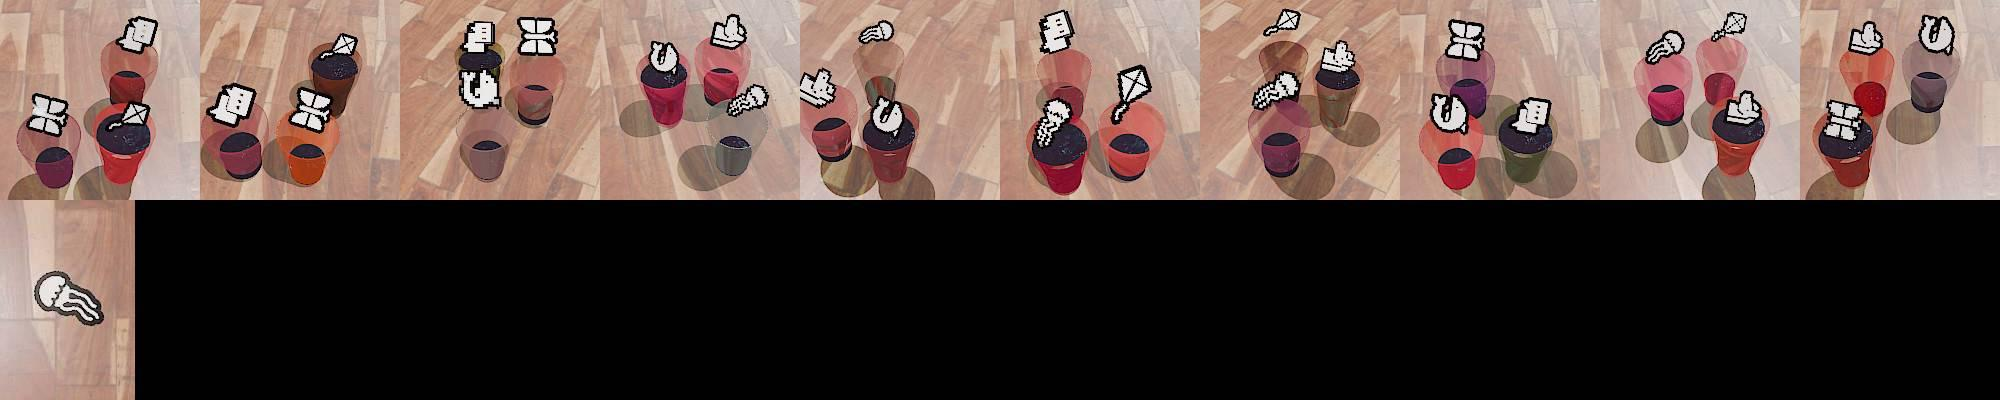icon: (33, 269, 106, 327), (1110, 65, 1153, 125), (1034, 94, 1075, 149), (208, 82, 258, 126), (290, 85, 334, 134), (1251, 69, 1301, 111), (1823, 96, 1867, 140), (458, 66, 503, 110), (27, 92, 70, 136), (517, 17, 559, 59), (1444, 19, 1486, 61), (797, 65, 838, 108), (1430, 89, 1469, 132), (117, 15, 159, 55), (1723, 88, 1763, 127), (1917, 14, 1955, 55), (103, 101, 152, 132), (1038, 10, 1073, 55), (709, 13, 749, 51), (1513, 96, 1552, 134), (460, 19, 499, 57), (726, 84, 769, 117), (1644, 29, 1684, 65), (871, 94, 904, 135), (1848, 19, 1884, 54), (1319, 39, 1356, 73), (647, 39, 680, 75), (1710, 11, 1749, 41), (1264, 8, 1302, 37), (857, 19, 895, 45), (330, 33, 358, 57)
